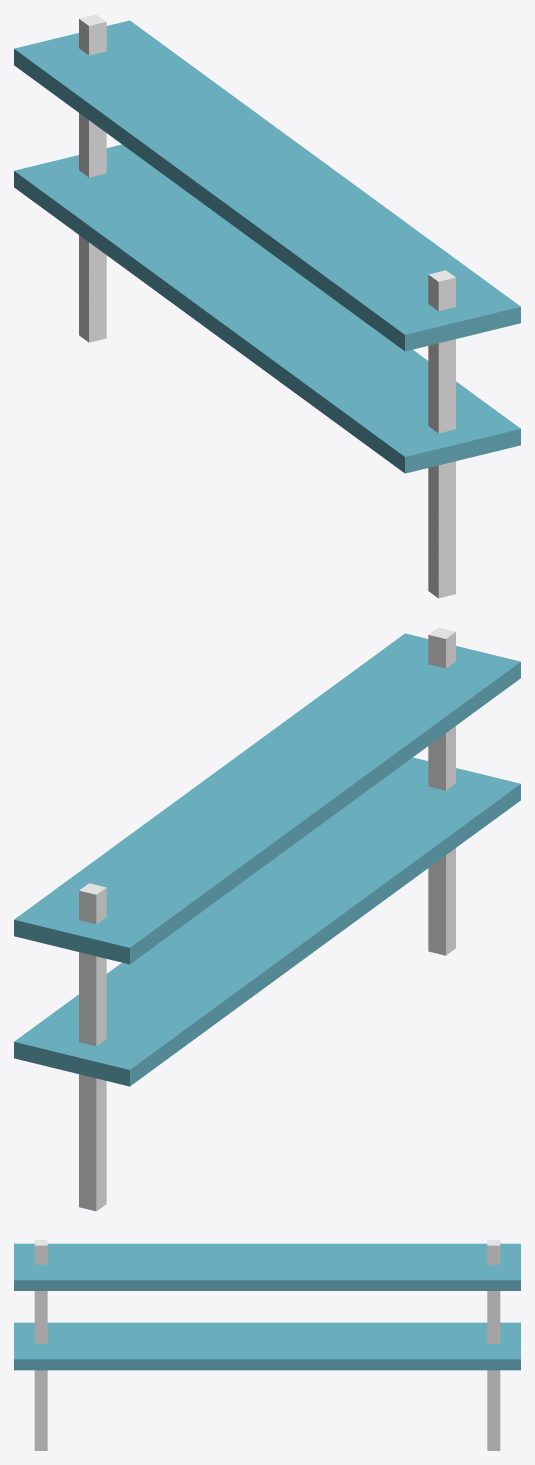
File: glass_shelf.fbx
3 views of the same model, one above another, from view 1: azimuth 30°, elevation 25°; view 2: azimuth 150°, elevation 25°; view 3: azimuth 270°, elevation 25° (orthographic). The views are drawn at different scales.
Parts seen in each view (by area): view 1: Cube.001, Cube; view 2: Cube.001, Cube; view 3: Cube.001, Cube.
Part boxes in pixels (<box>): Cube.001: <box>14,20,520,473</box>; Cube: <box>79,14,455,598</box>; Cube.001: <box>14,633,520,1086</box>; Cube: <box>79,627,455,1211</box>; Cube.001: <box>14,1243,520,1370</box>; Cube: <box>34,1240,500,1450</box>.
Bounding box in the file's own units: 1.15 × 3 × 6.72.
